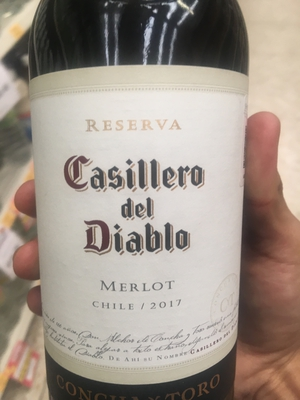casillero del diablo merlot: (29, 10, 245, 400)
